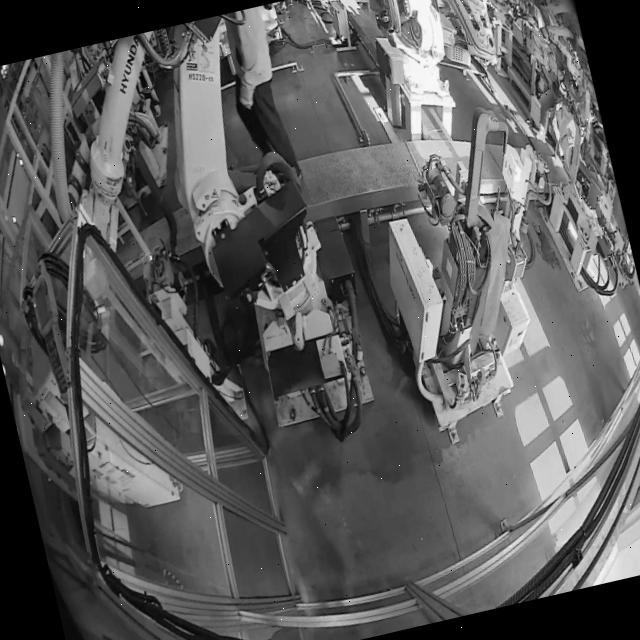Person: (218, 4, 306, 190)
